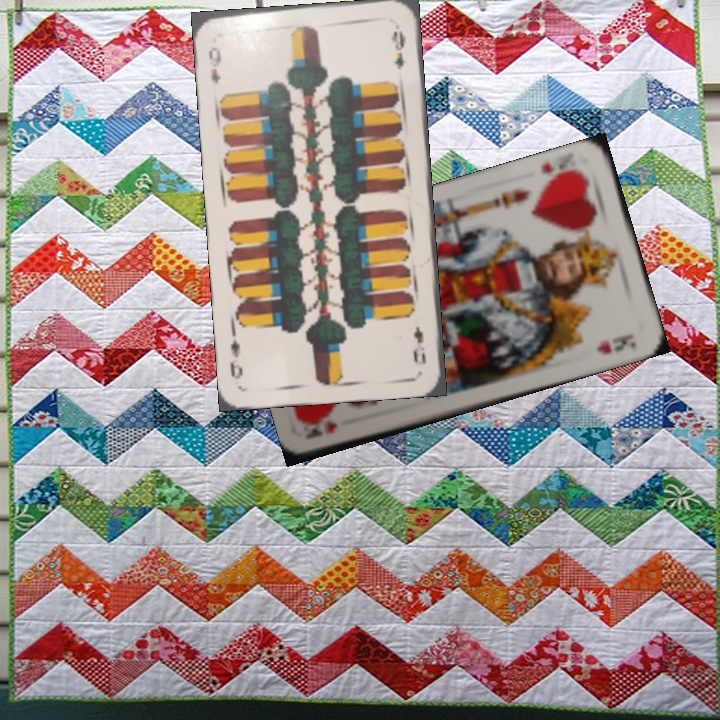E9: (204, 42, 224, 86), (409, 322, 428, 367)
HK: (537, 158, 585, 185), (303, 417, 340, 442)
